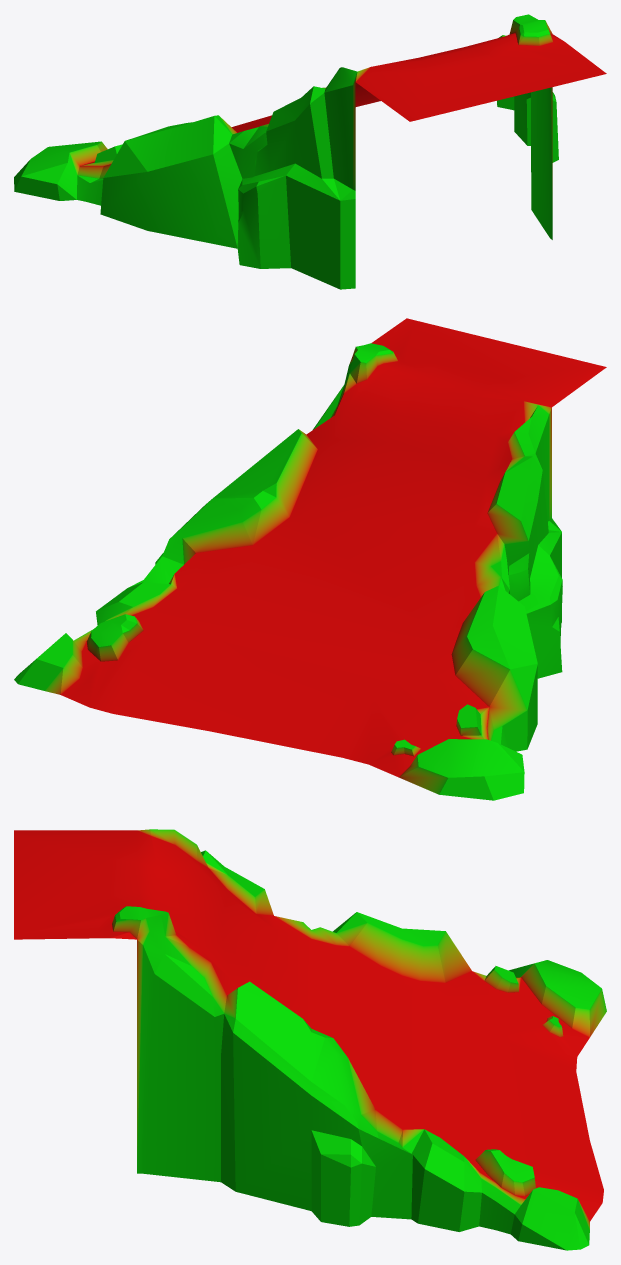
The model's file is Cliff_EdgeRamp_B.fbx.
3 renders of one model, top to bottom at view 1: azimuth 30°, elevation 25°; view 2: azimuth 150°, elevation 25°; view 3: azimuth 270°, elevation 25°, orthographic. The views are drawn at different scales.
Visible parts, largest first — view 1: cliff_edgeRamp_B; view 2: cliff_edgeRamp_B; view 3: cliff_edgeRamp_B.
Part boxes in pixels (<box>): cliff_edgeRamp_B: <box>14,14,606,289</box>; cliff_edgeRamp_B: <box>14,318,606,800</box>; cliff_edgeRamp_B: <box>14,829,606,1250</box>.
Size of the model in its own units: 500 by 459 by 215.
